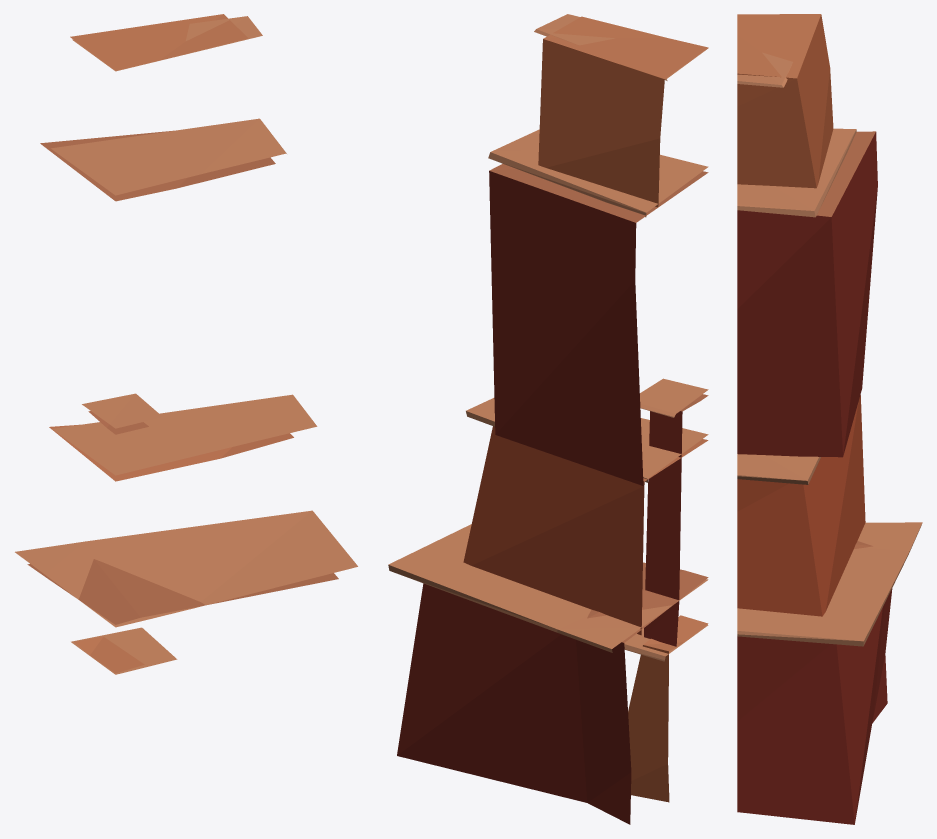
3 renders of one model, left to right at view 1: azimuth 30°, elevation 25°; view 2: azimuth 150°, elevation 25°; view 3: azimuth 270°, elevation 25°, orthographic. The views are drawn at different scales.
Visible parts, largest first — view 1: scene.2.3; view 2: scene.2.3; view 3: scene.2.3.
Part boxes in pixels (x1,y1,x2,y2): scene.2.3: (15,14,357,674); scene.2.3: (388,14,708,824); scene.2.3: (737,14,922,824).
Bounding box in the file's own units: 10.79 × 29.59 × 7.11.
